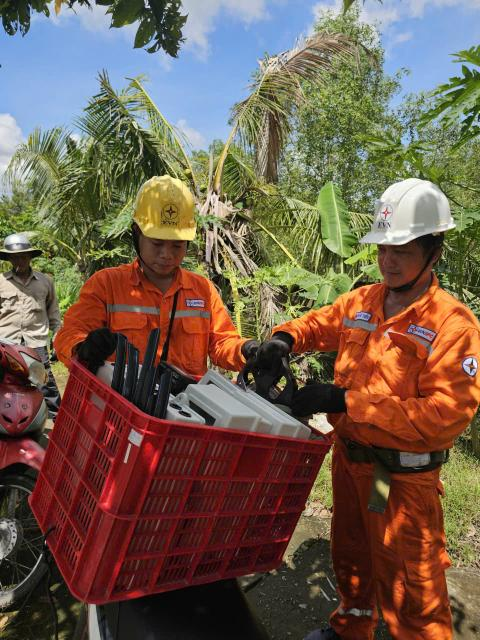gloves: (239, 334, 310, 385), (283, 379, 354, 419), (63, 328, 132, 365)
harness: (337, 420, 469, 487)
helmet: (363, 158, 456, 255), (119, 177, 211, 246)
